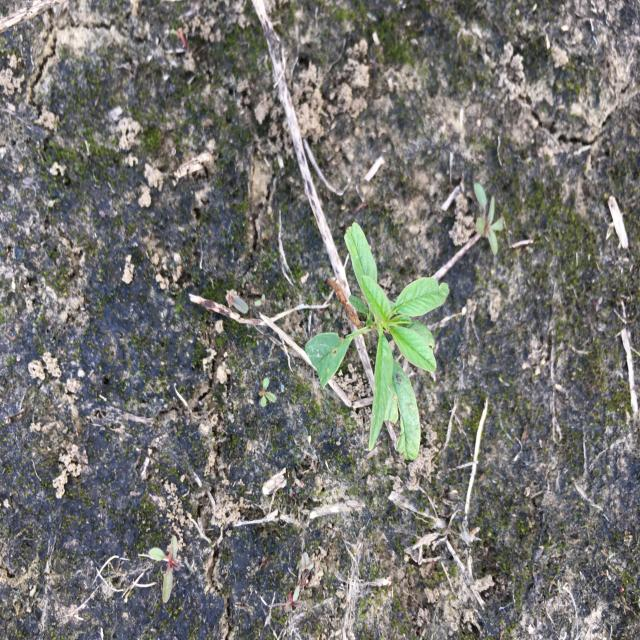Waterhemp: (303, 219, 451, 465)
